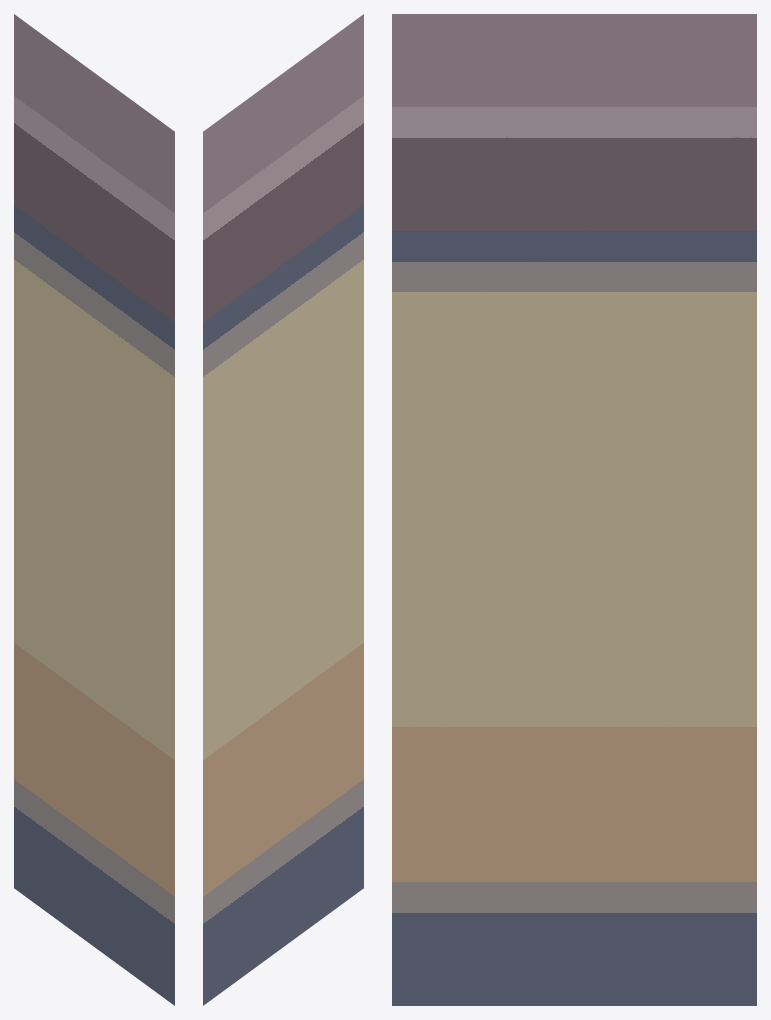
3 renders of one model, left to right at view 1: azimuth 30°, elevation 25°; view 2: azimuth 150°, elevation 25°; view 3: azimuth 270°, elevation 25°, orthographic. The views are drawn at different scales.
Bounding box in the file's own units: 0 × 3 × 1.
Materials: 1 (1 with a texture image).
